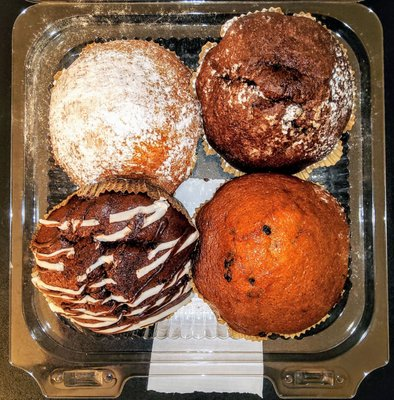salad: (192, 172, 351, 338), (196, 9, 356, 173), (48, 40, 202, 194)
